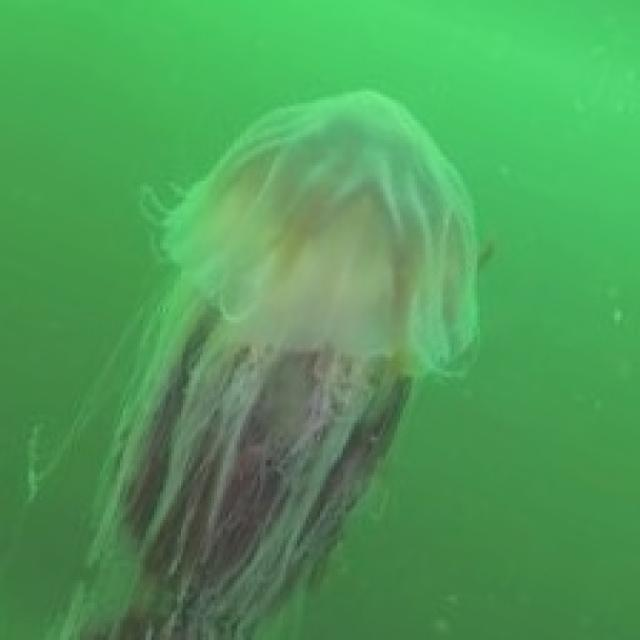Box-jellyfish: (17, 86, 492, 637)
